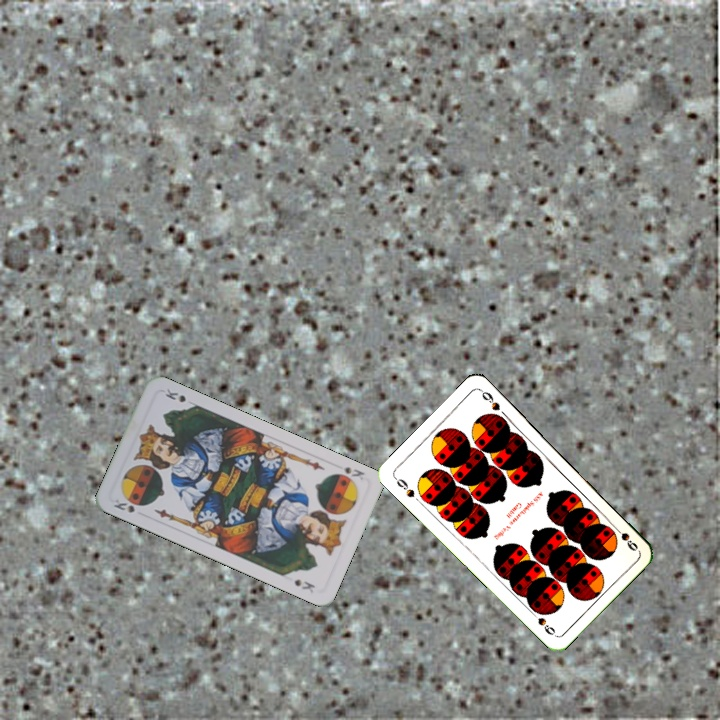S9: (608, 520, 641, 554), (390, 473, 417, 500)
SK: (331, 460, 367, 483), (109, 495, 137, 515)
